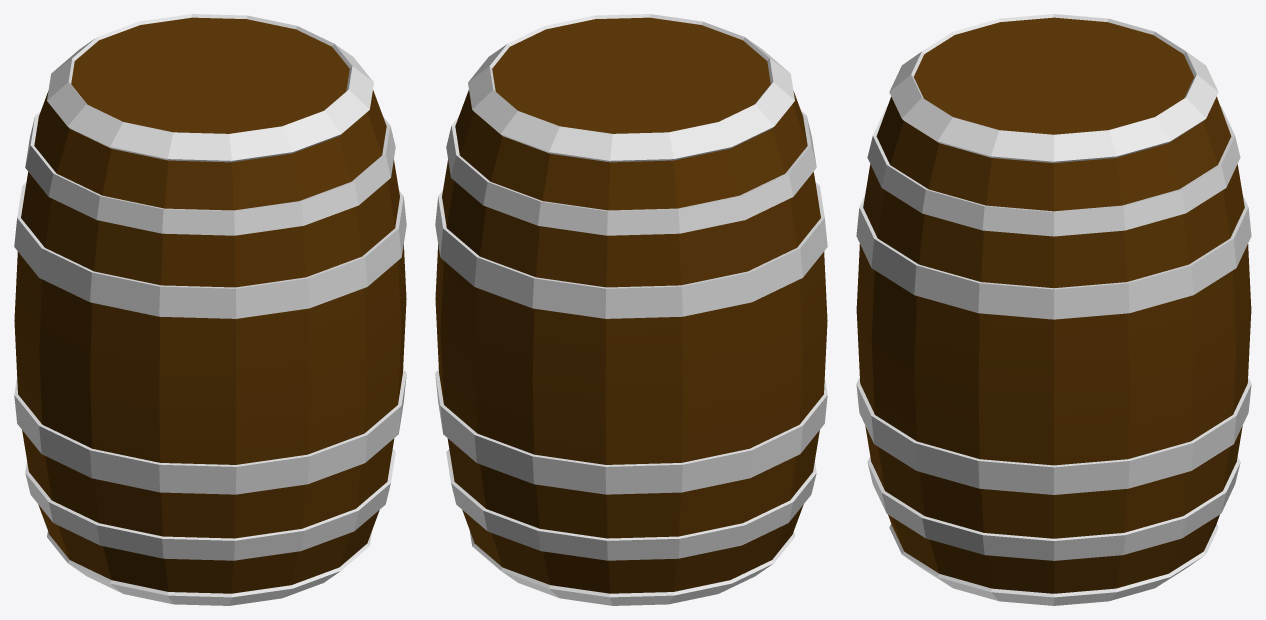
The model's file is Barril.fbx.
The picture shows the model from 3 angles, left to right: view 1: azimuth 30°, elevation 25°; view 2: azimuth 150°, elevation 25°; view 3: azimuth 270°, elevation 25°; orthographic projection.
Visible parts, largest first — view 1: barril.010, barril.001, barril.007, barril.008, barril.002, barril.006, barril.003; view 2: barril.006, barril.005, barril.007, barril.008, barril.004, barril.010, barril.003; view 3: barril.003, barril.002, barril.004, barril.008, barril.001, barril.005.
Part boxes in pixels (x1,y1,x2,y2): barril.010: (90, 122, 236, 605); barril.001: (229, 111, 367, 605); barril.007: (14, 82, 122, 593); barril.008: (71, 17, 349, 133); barril.002: (324, 66, 406, 570); barril.006: (14, 37, 98, 536); barril.003: (296, 26, 406, 451); barril.006: (605, 122, 751, 605); barril.005: (474, 111, 612, 605); barril.007: (719, 82, 827, 593); barril.008: (492, 17, 770, 133); barril.004: (435, 66, 517, 570); barril.010: (743, 37, 827, 536); barril.003: (435, 26, 545, 451); barril.003: (978, 130, 1129, 605); barril.002: (871, 97, 999, 601); barril.004: (1108, 97, 1236, 601); barril.008: (914, 17, 1193, 134); barril.001: (856, 51, 924, 554); barril.005: (1183, 51, 1251, 554).
Size of the model in its own units: 92.21 by 121 by 92.21.
